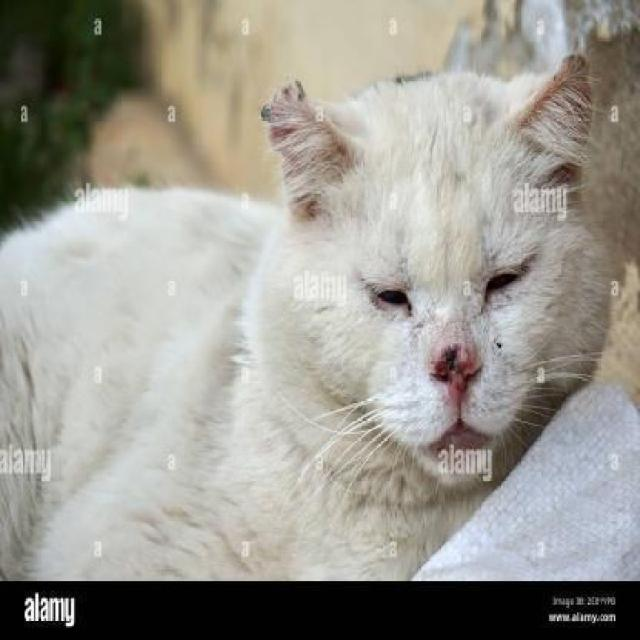cat: (0, 74, 632, 551)
